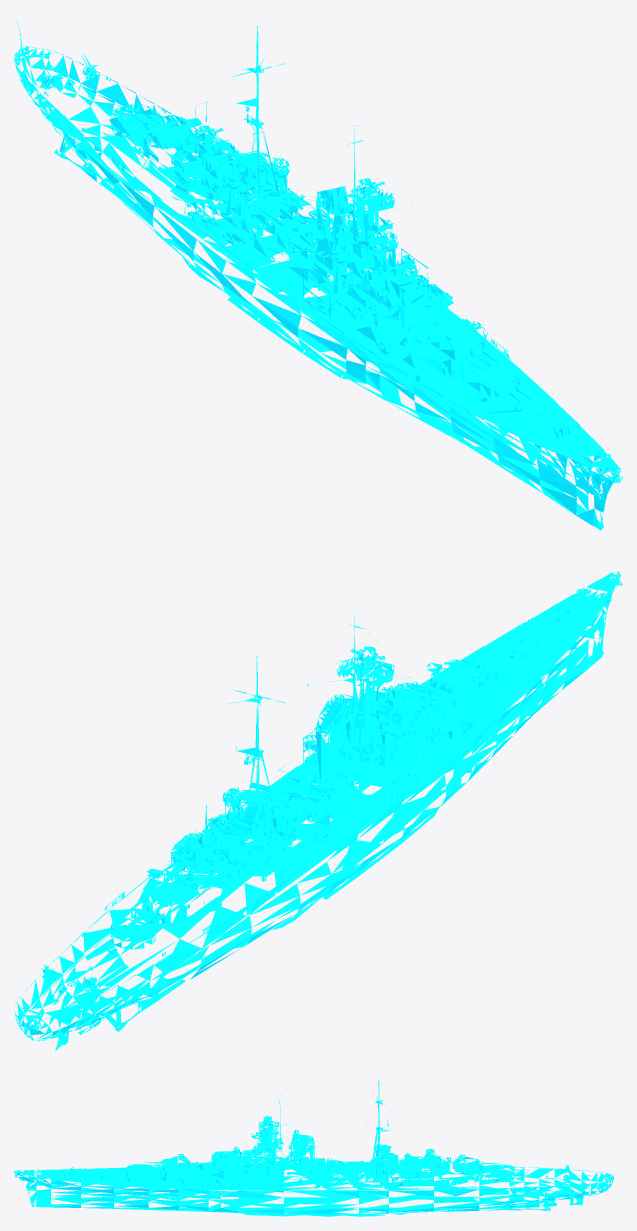
File: PGSC110.glb
3 renders of one model, top to bottom at view 1: azimuth 30°, elevation 25°; view 2: azimuth 150°, elevation 25°; view 3: azimuth 270°, elevation 25°, orthographic. The views are drawn at different scales.
Parts seen in each view (by area): view 1: hull, turret; view 2: hull, turret; view 3: hull, turret.
Part boxes in pixels (x1,y1,x2,y2): hull: (14, 22, 622, 530); turret: (41, 53, 572, 438); hull: (14, 571, 622, 1050); turret: (41, 594, 572, 991); hull: (14, 1080, 614, 1216); turret: (69, 1153, 569, 1189).
Bounding box in the file's own units: 1.84 × 3.57 × 15.48.
